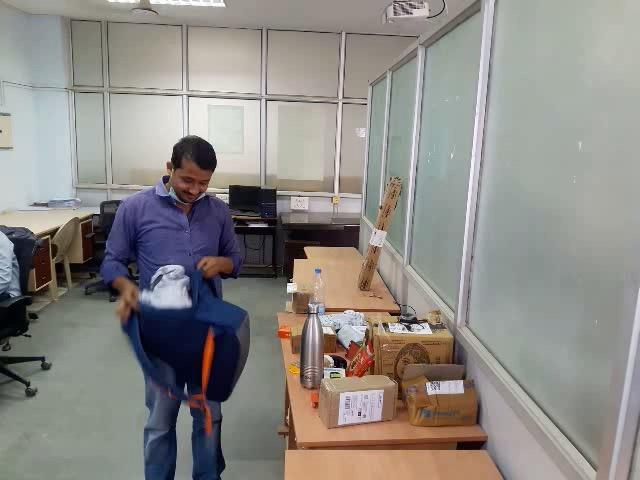shoplifting: (86, 241, 291, 404)
